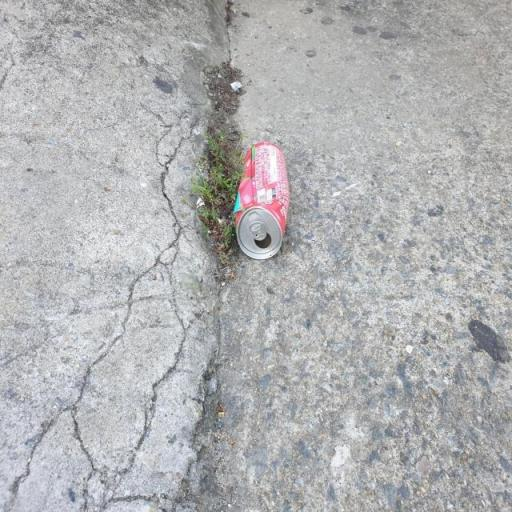metal: (223, 124, 315, 277)
